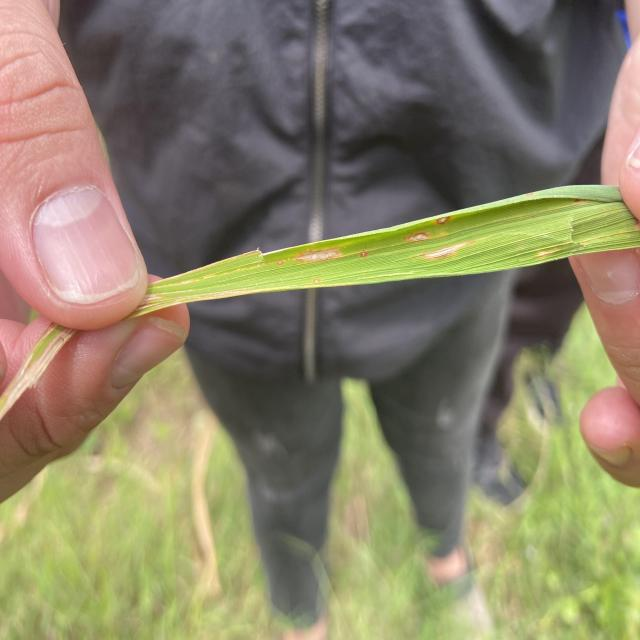Dao on: (423, 240, 475, 261), (293, 246, 343, 264), (403, 231, 430, 243), (435, 215, 452, 224), (359, 251, 368, 258), (312, 278, 321, 283), (276, 261, 284, 265)
